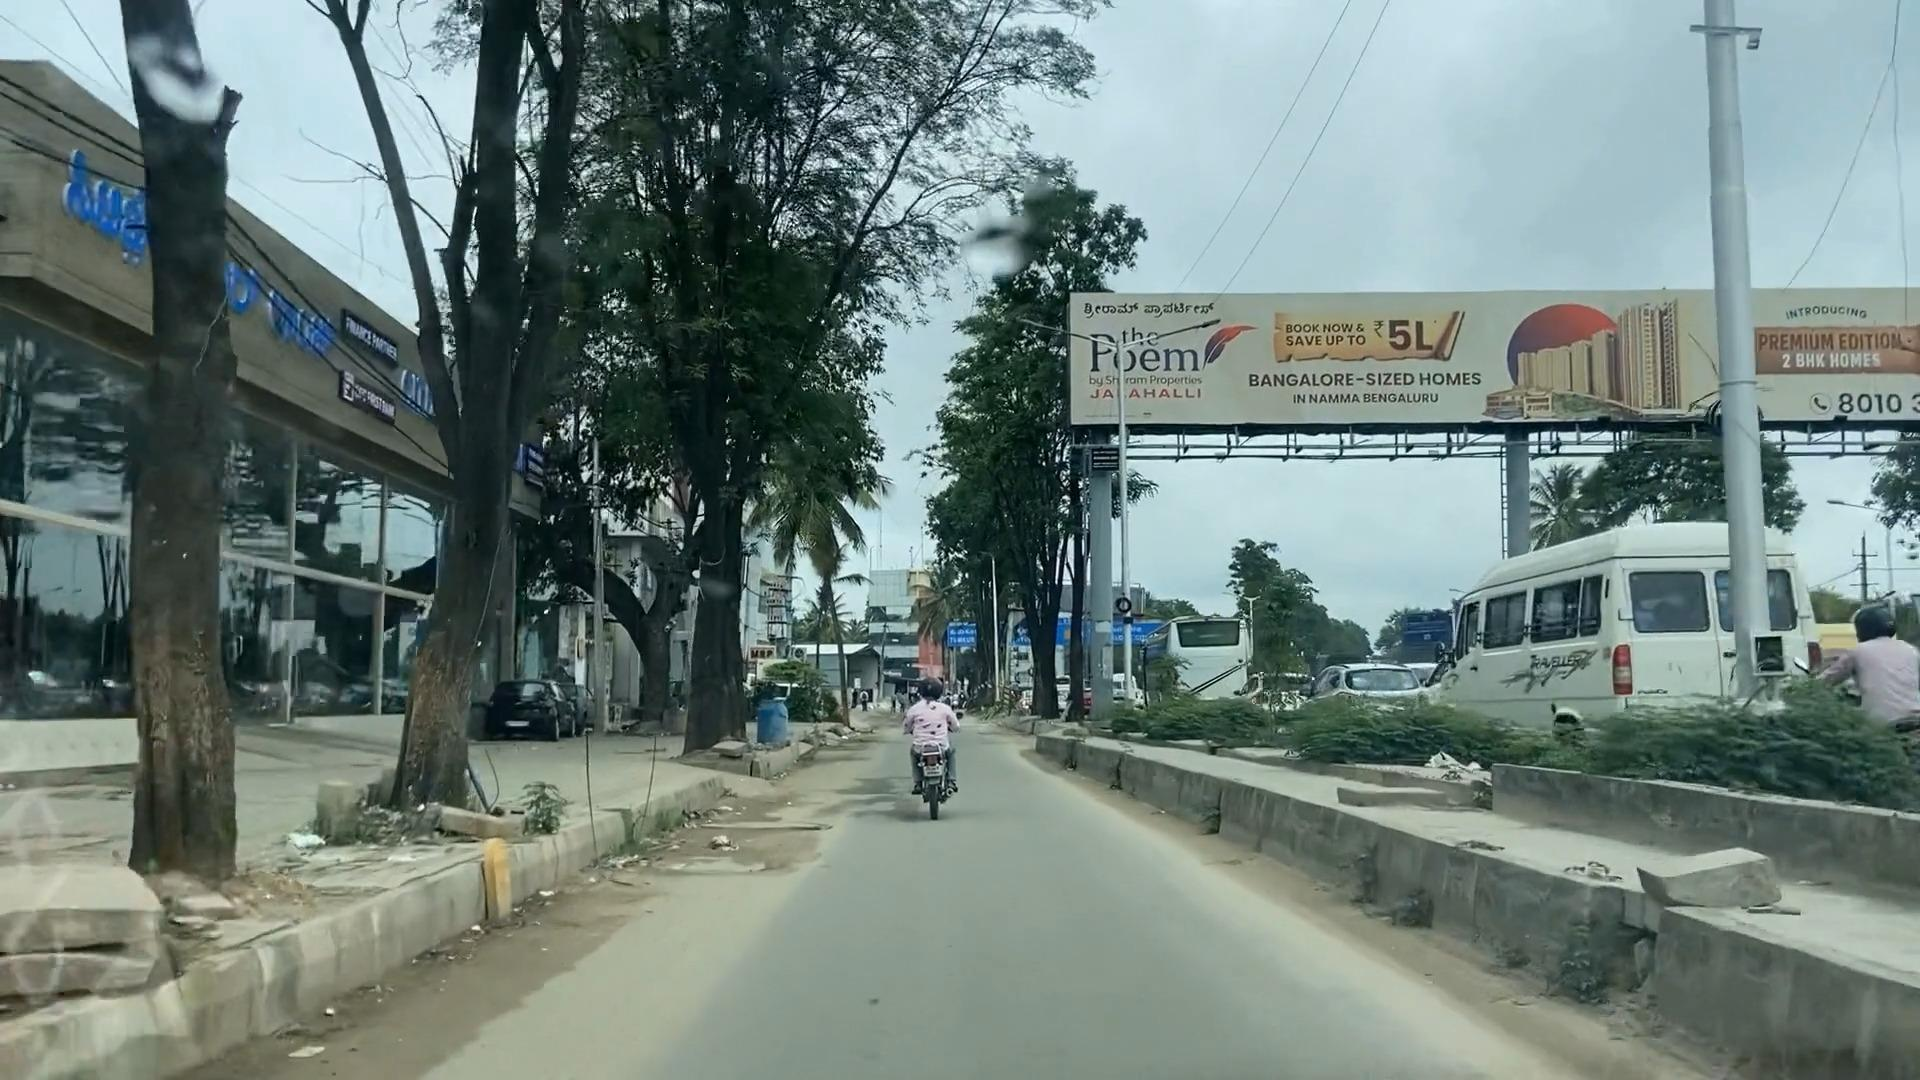RoadDamages: (599, 814, 833, 887)
